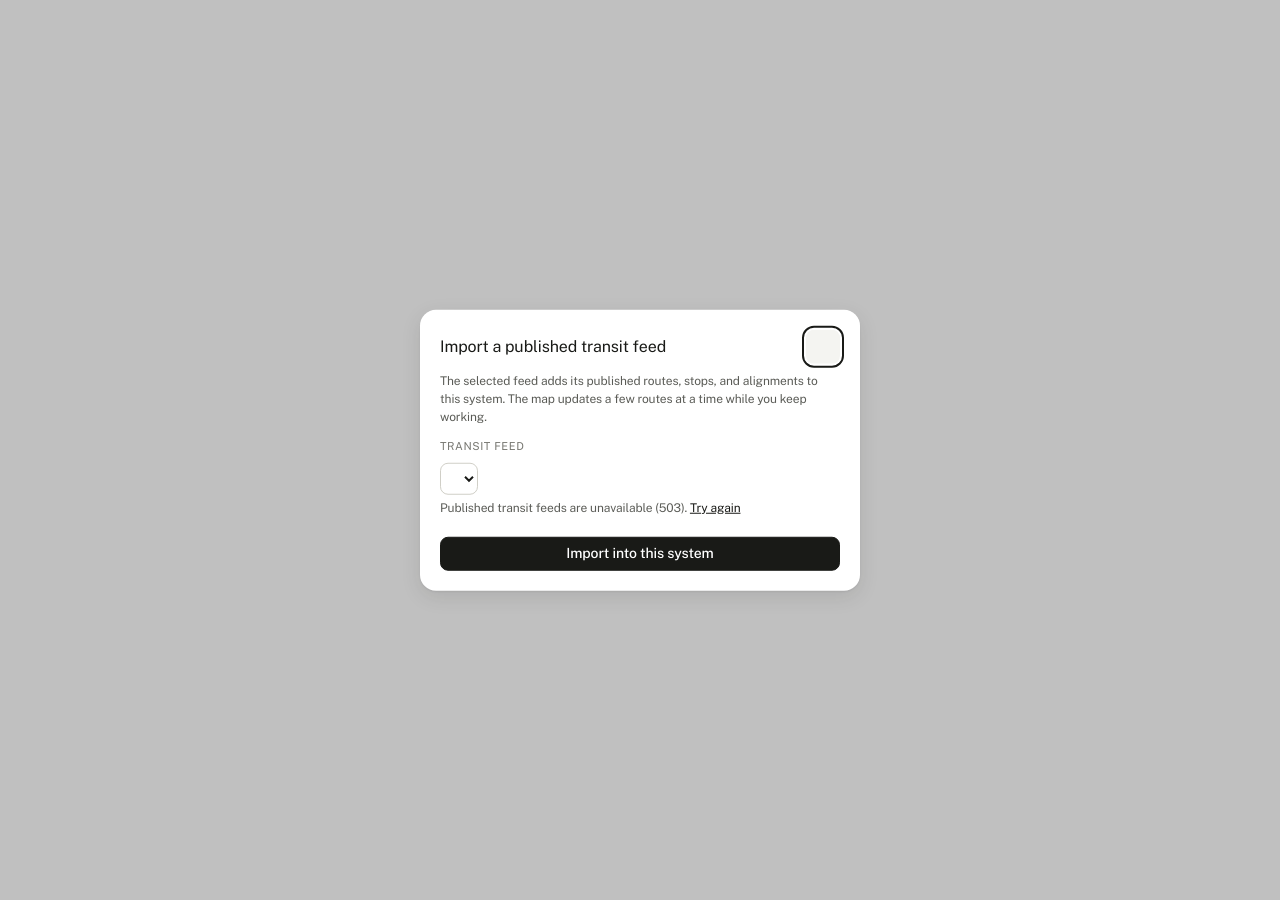
Test: published GTFS import dialog › keeps import disabled and retries when the feed catalog is unavailable
Expected: the button "Import into this system" is disabled, [440, 536, 840, 570]
What coordinates should you click on to do the following:
click the button "Try again"
I would click on:
 (715, 507)
Its box is [690, 498, 740, 516].
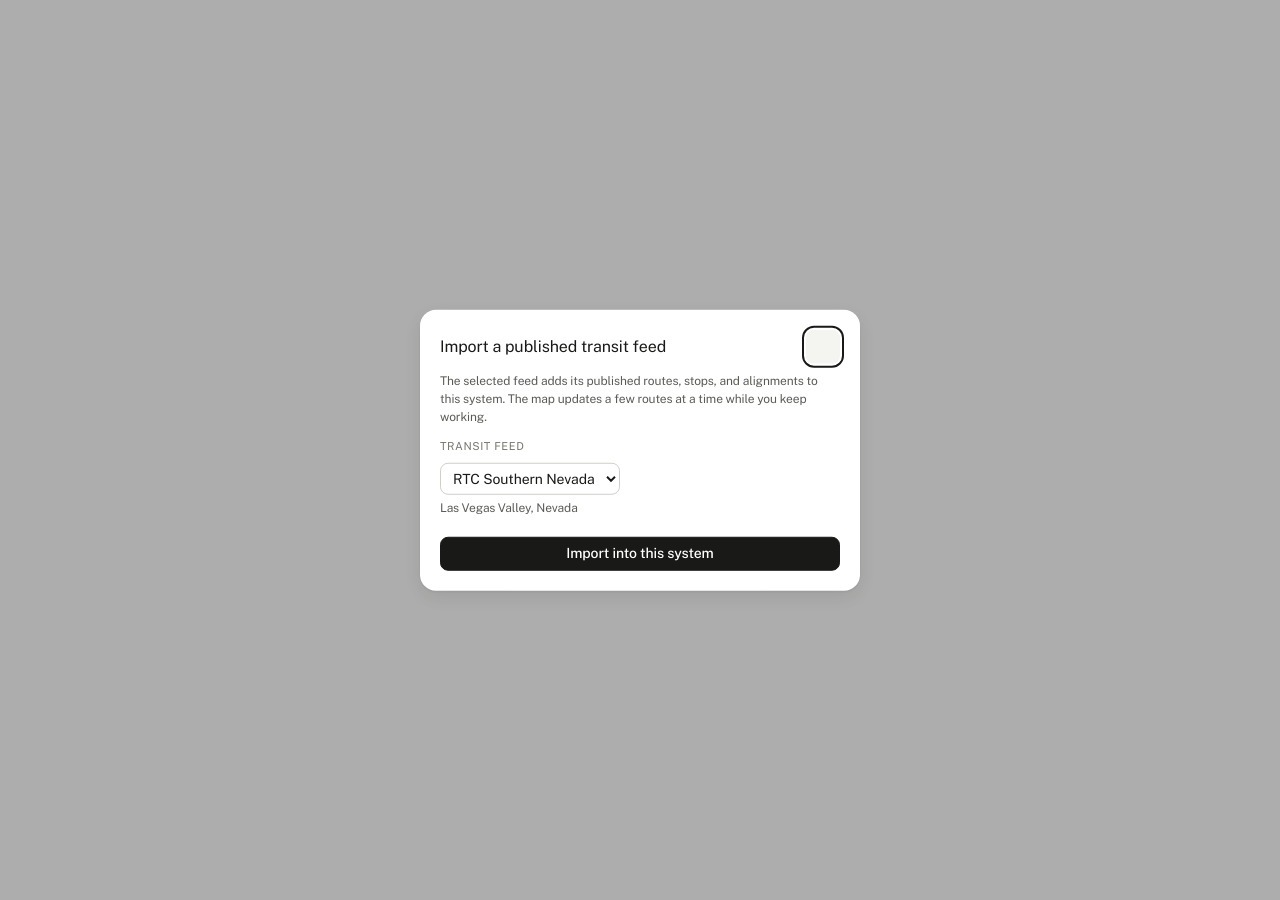
Expected: the dropdown named "gtfs-feed" shows "RTC Southern Nevada", [440, 462, 620, 494]
